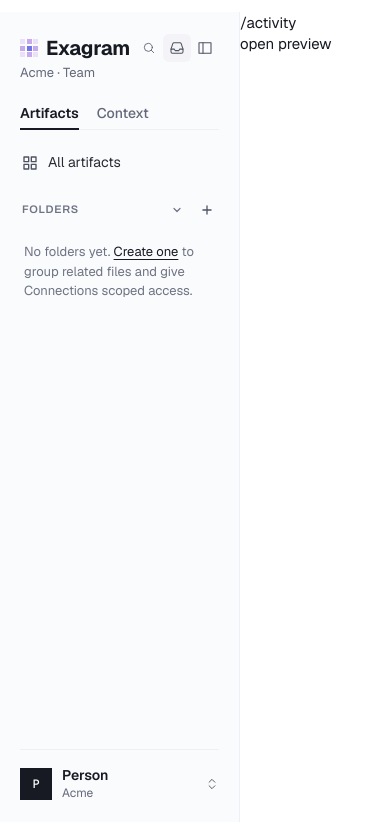
it: AppShell collapsed rail and Settings › shows the Settings sidebar even when the app sidebar is collapsed
Click the button named "Collapse sidebar" at (205, 48), box [191,34,219,62]
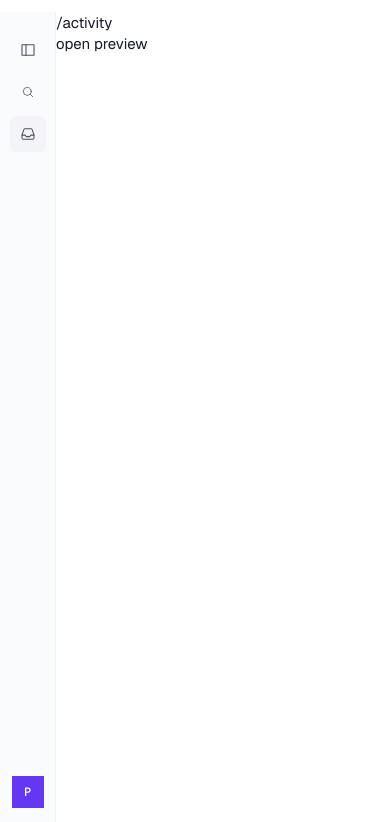
Click the button titled "Account" at (28, 792), box [12,776,44,808]
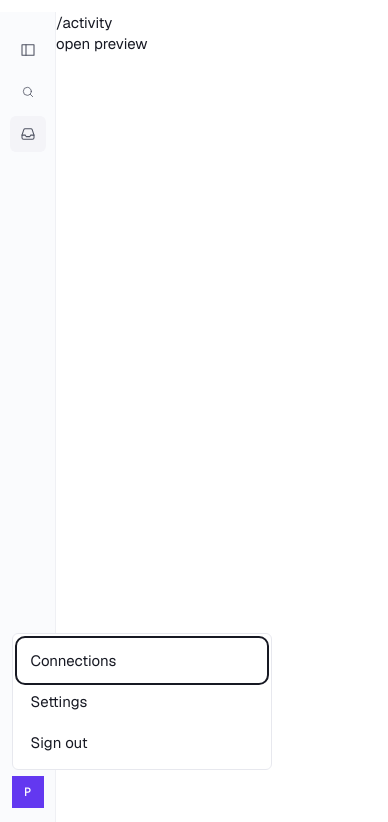
Click the menu item "Settings" at (142, 702), box [18,681,264,722]
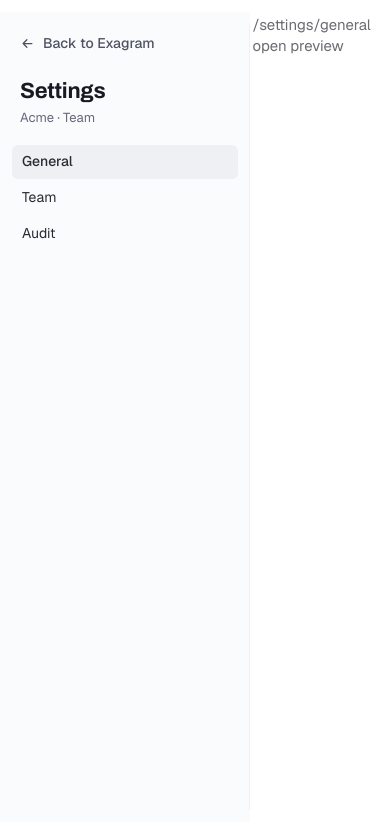
Result: the element named "Settings sidebar" is shown
Click the link "Back to Exagram" at (87, 44), box [20,34,155,54]
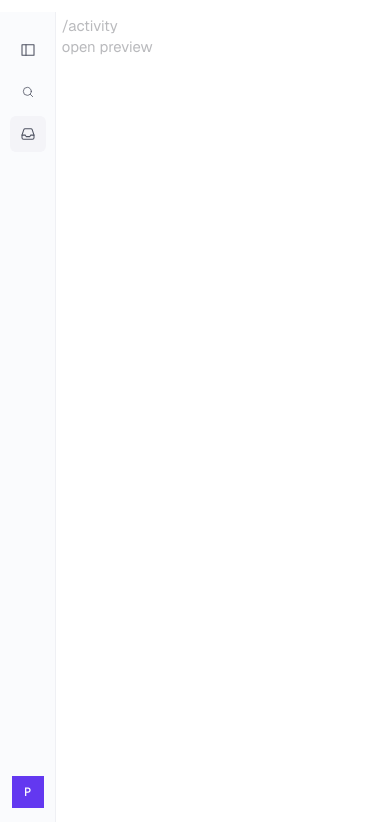
Result: the element named "Collapsed sidebar" is shown at [0,12,56,821]
